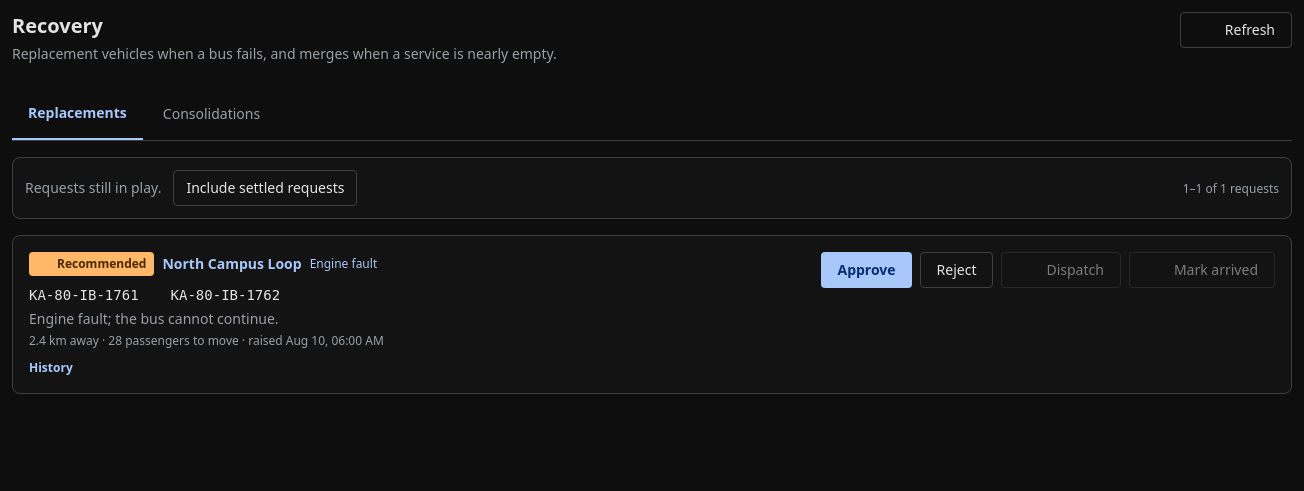
Test: replacement requests › fetches the history only when it is asked for
Check: the heading "Recovery" is shown, box x1=12 y1=12 x2=103 y2=39
Check: the text "KA-80-IB-1761" is shown, box x1=29 y1=287 x2=139 y2=303
Click the button "History" at point(51, 368), box x1=29 y1=360 x2=73 y2=376
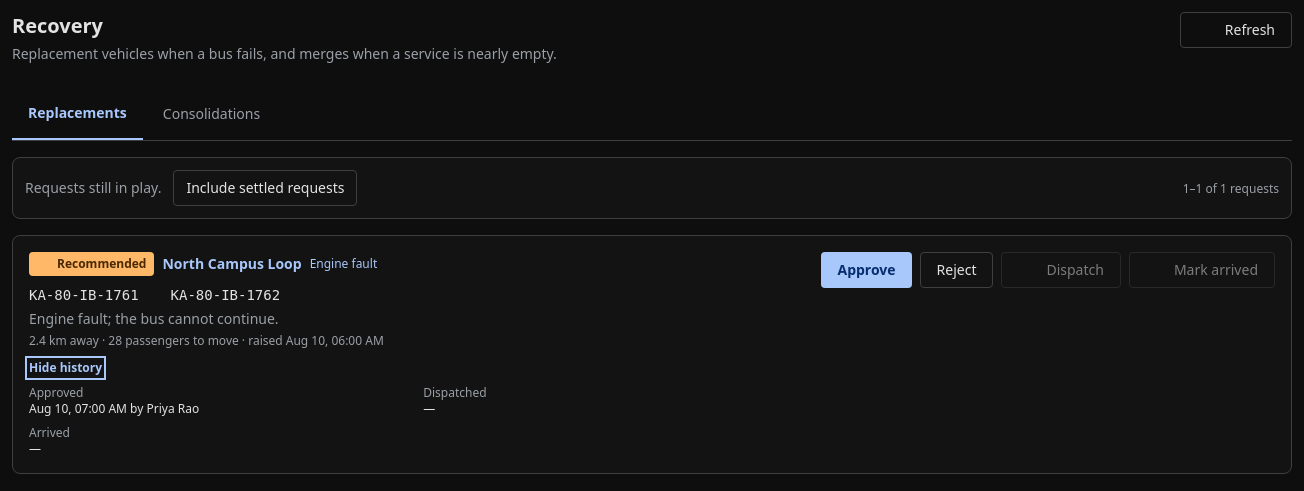
Check: the text "Aug 10, 07:00 AM by Priya Rao" is shown, box x1=29 y1=400 x2=199 y2=417
